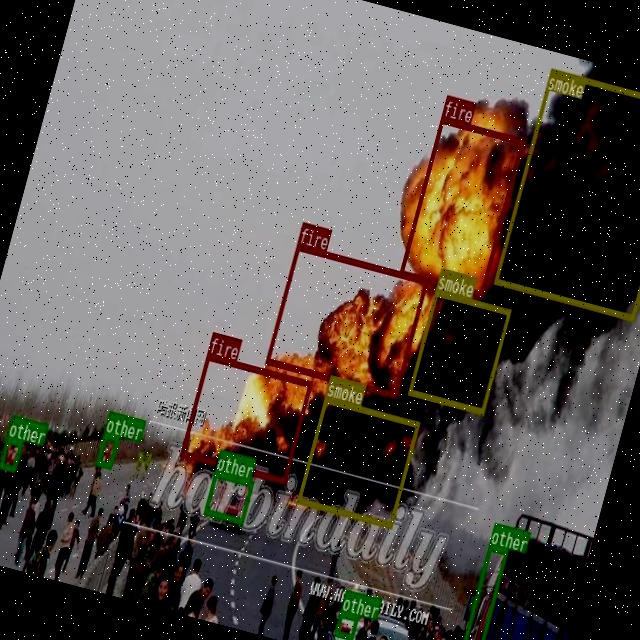fire: (266, 243, 428, 397), (398, 115, 524, 297), (178, 352, 312, 483)
smoke: (492, 67, 640, 320), (296, 394, 419, 528), (408, 288, 510, 413)
